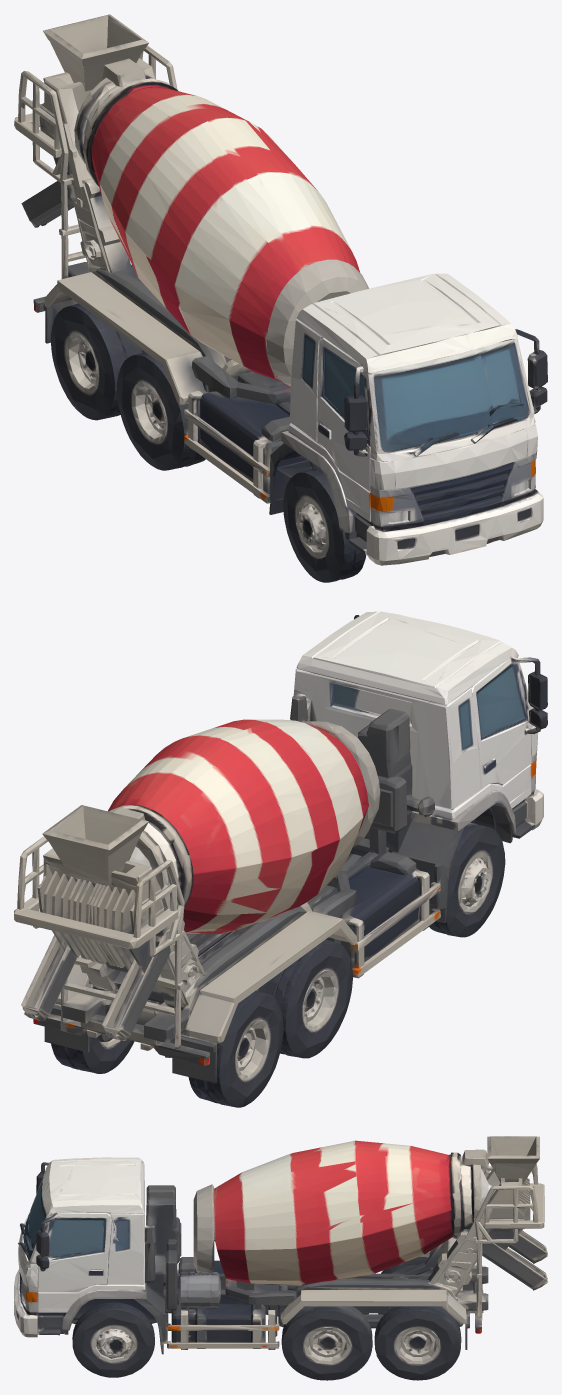
The model's file is mixer_truck.glb.
3 views of the same model, one above another, from view 1: azimuth 30°, elevation 25°; view 2: azimuth 150°, elevation 25°; view 3: azimuth 270°, elevation 25° (orthographic). The views are drawn at different scales.
Parts seen in each view (by area): view 1: mixer_truck; view 2: mixer_truck; view 3: mixer_truck.
Part boxes in pixels (<box>): mixer_truck: <box>14,14,547,582</box>; mixer_truck: <box>14,611,547,1107</box>; mixer_truck: <box>14,1136,547,1380</box>.
Size of the model in its own units: 2.5 by 3.7 by 8.6.
1 material, 1 textured.
